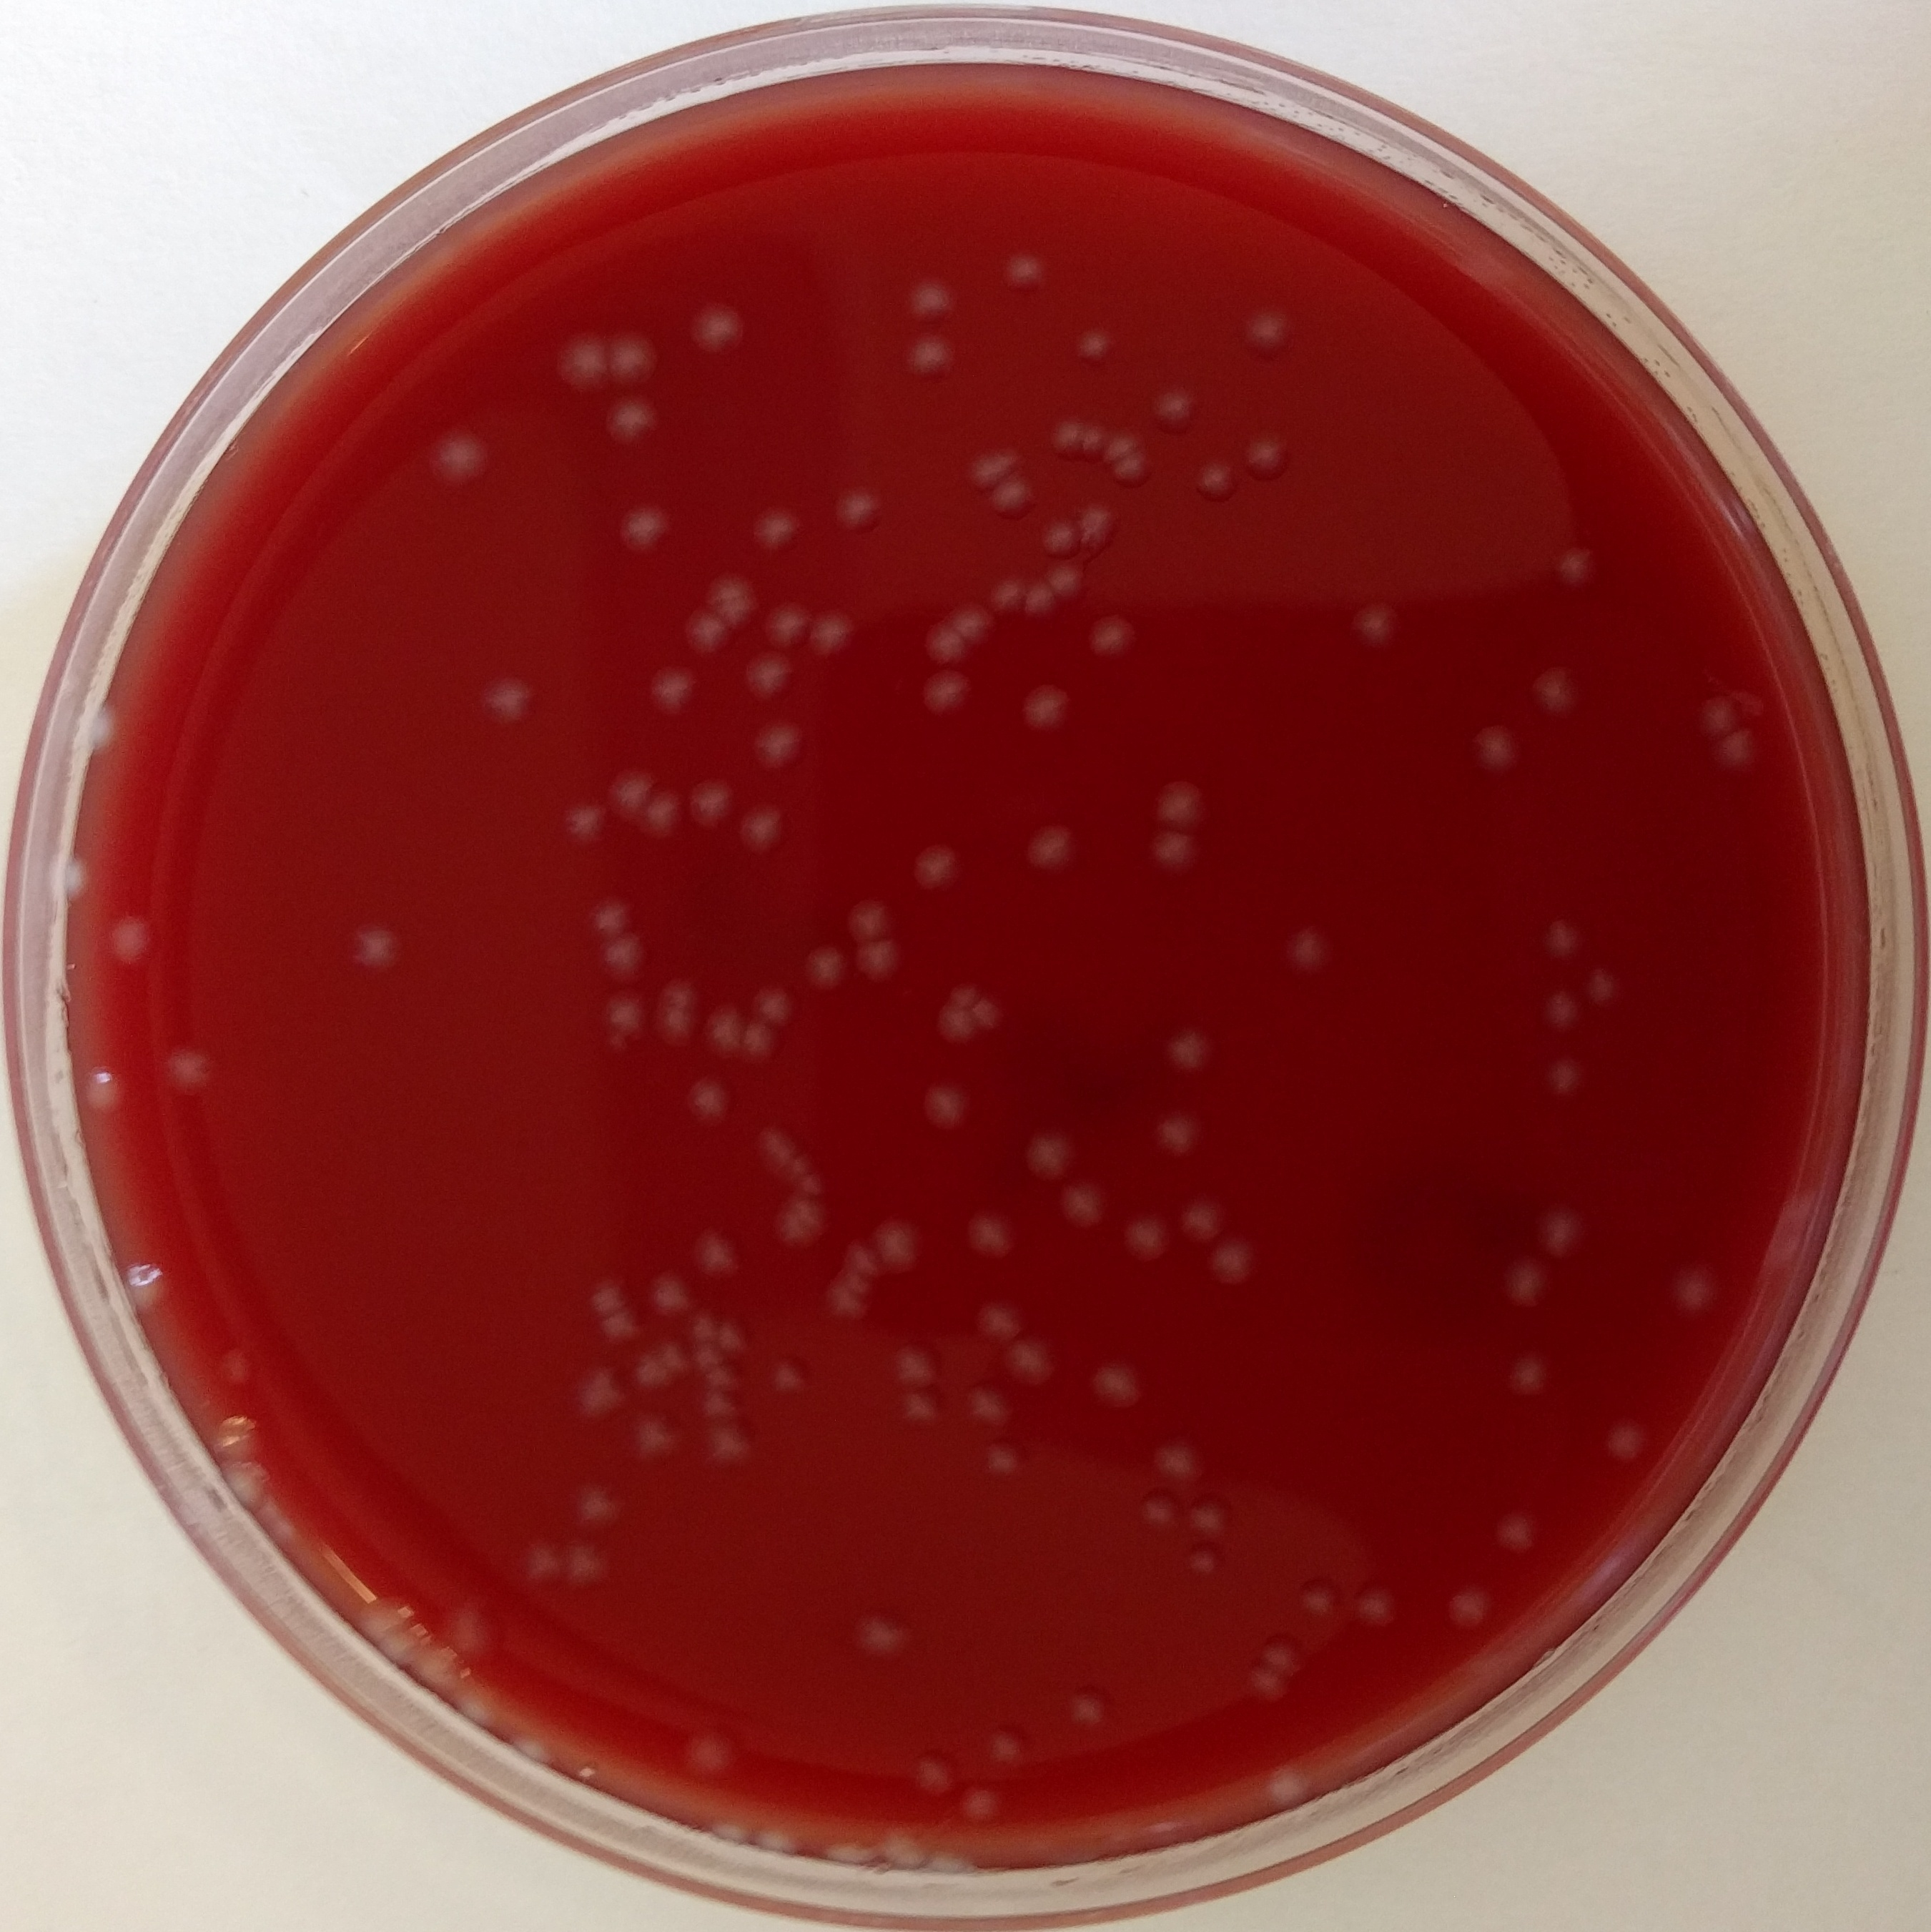sp18: (143, 1033, 225, 1113), (80, 676, 140, 777), (92, 899, 166, 978), (596, 313, 665, 396), (675, 285, 753, 356), (990, 1327, 1070, 1396), (953, 1205, 1034, 1272), (729, 794, 806, 863), (440, 1596, 515, 1665), (469, 671, 548, 732), (545, 329, 614, 400), (596, 382, 667, 451), (421, 423, 490, 494), (746, 709, 815, 780), (1496, 1343, 1565, 1414), (1530, 1201, 1591, 1279), (674, 1723, 752, 1785), (605, 502, 684, 561), (764, 1194, 831, 1263), (686, 1219, 753, 1286), (1240, 301, 1309, 366), (1082, 1350, 1148, 1419), (1595, 1405, 1660, 1474), (898, 324, 969, 387), (1464, 717, 1528, 787), (1576, 947, 1637, 1019), (591, 929, 658, 994), (561, 1472, 630, 1536), (904, 1739, 969, 1805), (677, 773, 746, 835), (849, 1608, 918, 1670), (73, 1058, 133, 1129), (702, 563, 760, 635), (668, 1076, 736, 1138), (1017, 671, 1077, 740), (1491, 1253, 1560, 1313), (631, 780, 695, 844), (642, 655, 702, 722), (564, 1361, 631, 1421), (741, 508, 819, 559), (1526, 651, 1581, 724), (1156, 1017, 1218, 1081), (113, 1253, 175, 1316), (1238, 423, 1298, 488), (1148, 819, 1208, 885), (1149, 377, 1208, 444), (865, 1219, 932, 1277), (1666, 1253, 1722, 1322), (921, 660, 983, 722), (904, 835, 965, 897), (345, 918, 407, 980), (550, 793, 608, 858), (1148, 1099, 1206, 1164), (799, 603, 859, 665), (594, 984, 654, 1046), (628, 1405, 688, 1467), (826, 479, 891, 536), (1057, 1683, 1128, 1734), (1151, 773, 1210, 835), (1024, 821, 1086, 879), (897, 272, 962, 327), (1233, 1656, 1293, 1714), (1705, 724, 1763, 784), (997, 237, 1054, 299), (1188, 455, 1250, 511), (352, 1589, 414, 1645), (978, 465, 1043, 518), (42, 844, 94, 911), (1347, 594, 1406, 653), (1533, 1042, 1591, 1100), (1169, 1185, 1225, 1246), (955, 1376, 1015, 1433), (1149, 1435, 1210, 1491), (1687, 685, 1744, 745), (1183, 1488, 1241, 1545), (561, 1532, 615, 1592), (584, 893, 645, 947), (847, 932, 911, 984), (799, 938, 849, 1003), (506, 1723, 571, 1773), (1054, 1178, 1111, 1235), (736, 649, 794, 704), (1017, 1131, 1077, 1184), (1441, 1582, 1501, 1635), (380, 1615, 433, 1675), (882, 1345, 946, 1394), (750, 1813, 806, 1868), (1042, 550, 1095, 609), (1084, 612, 1142, 665), (1257, 1626, 1310, 1684), (967, 1295, 1027, 1346), (764, 594, 810, 660), (971, 1433, 1026, 1488), (943, 594, 994, 653), (1351, 1576, 1402, 1635), (1289, 1571, 1347, 1622), (951, 1778, 1010, 1829), (516, 1529, 568, 1587), (702, 994, 743, 1067), (918, 1074, 964, 1138), (1537, 908, 1590, 962), (985, 1718, 1038, 1773), (679, 605, 730, 662), (914, 619, 971, 671), (1277, 922, 1333, 973), (1208, 1237, 1259, 1293), (700, 1421, 764, 1465), (962, 446, 1024, 490), (688, 1384, 750, 1428), (1072, 318, 1125, 370), (647, 1000, 698, 1053), (1121, 1215, 1172, 1269), (877, 1829, 930, 1881), (1551, 541, 1604, 593), (582, 1276, 637, 1325), (767, 1350, 815, 1407), (605, 766, 651, 824), (1264, 1752, 1314, 1805), (1073, 494, 1121, 548), (842, 895, 897, 943), (1491, 1507, 1546, 1555), (746, 980, 792, 1037), (695, 1813, 759, 1854), (209, 1407, 258, 1458), (653, 1272, 698, 1327), (1183, 1539, 1238, 1585), (732, 1010, 773, 1072), (622, 1345, 672, 1394), (1139, 1483, 1183, 1537), (1111, 446, 1160, 494), (718, 1306, 757, 1366), (221, 1447, 262, 1504), (596, 1302, 645, 1348), (822, 1286, 870, 1332), (819, 1838, 881, 1874), (419, 1645, 460, 1698), (828, 1261, 882, 1300), (965, 991, 1011, 1037), (205, 1338, 249, 1385), (987, 570, 1027, 619), (1020, 571, 1059, 623), (1542, 982, 1579, 1035), (690, 1357, 748, 1391), (935, 996, 978, 1042), (1042, 419, 1084, 464), (1072, 410, 1107, 464), (656, 971, 698, 1016), (845, 1237, 886, 1283), (654, 1339, 695, 1385), (893, 1387, 941, 1424), (1043, 513, 1079, 563), (1103, 419, 1144, 460), (928, 1842, 973, 1877), (462, 1690, 509, 1721), (683, 1332, 721, 1371), (688, 1306, 725, 1345), (944, 978, 985, 1014), (752, 1118, 783, 1157), (271, 1511, 306, 1543), (794, 1173, 831, 1201), (782, 1148, 813, 1180), (242, 1486, 271, 1520), (607, 1028, 630, 1053)
